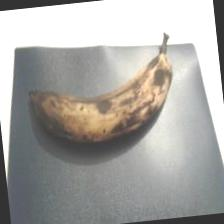Banana Rotten: (7, 33, 198, 180)
